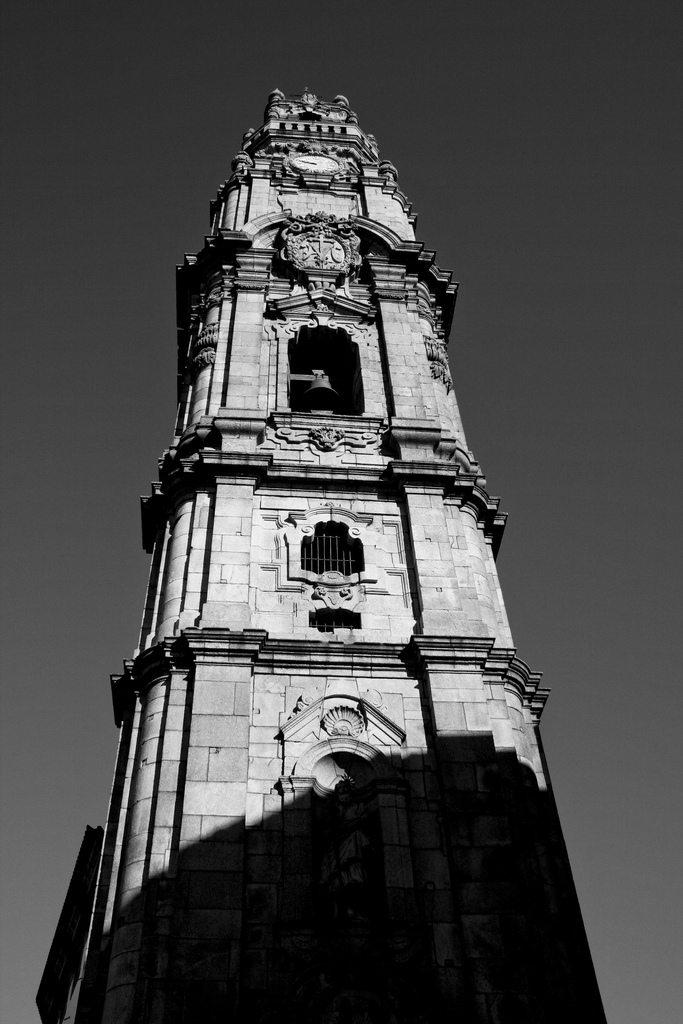clerigos: (37, 88, 608, 1023)
